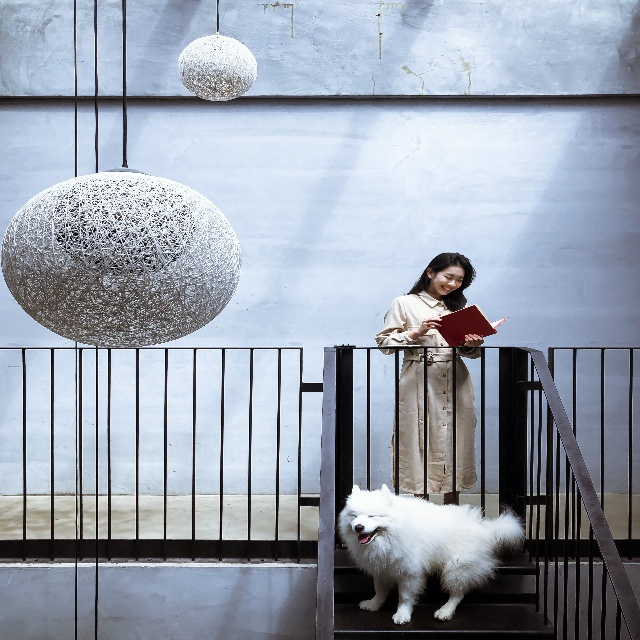Sin_guantes: (418, 317, 442, 337), (463, 333, 484, 348)
